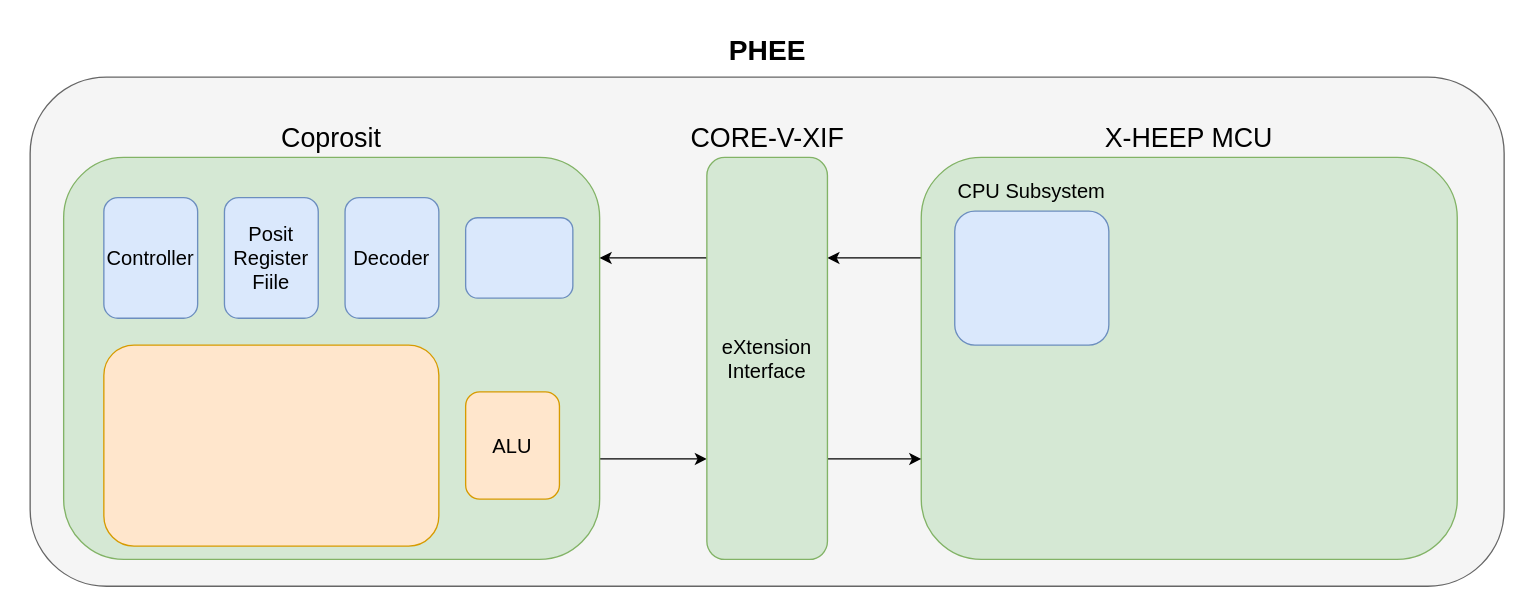
Some shapes in this 1533 by 610 pixel diagram are drawn without their labels. The centre of each missing label's shape, as x and y in pixels:
CV32E40PX: the point at 1031,277
PRAU: the point at 271,445
Predecoder: the point at 518,257
